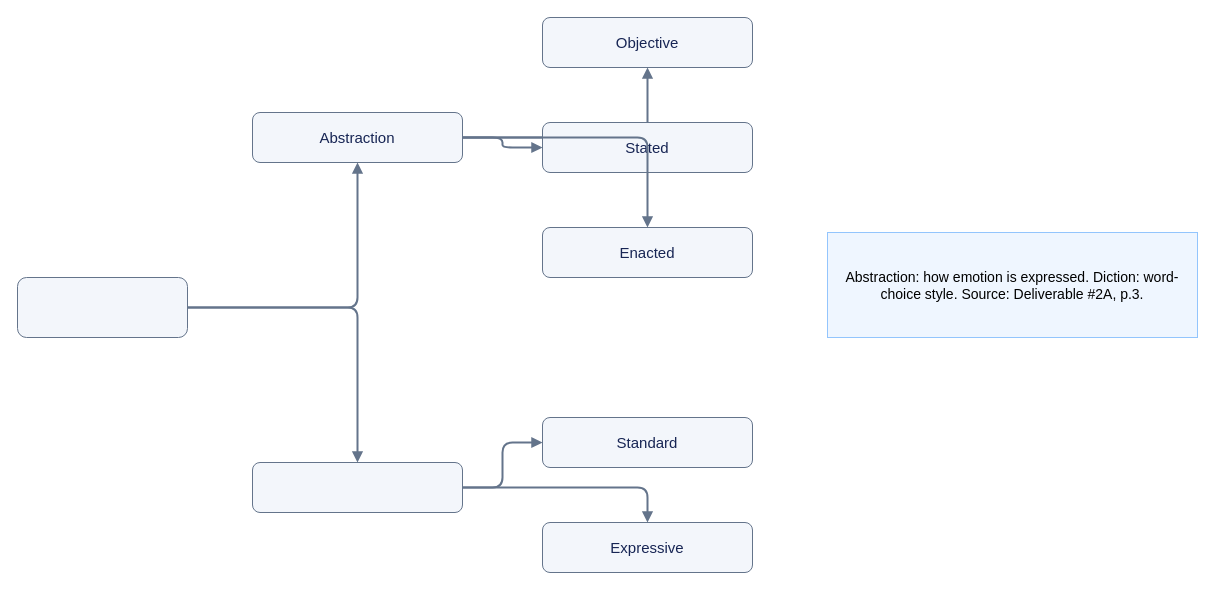
Image size: 1215x590. Some labels were removed from this diagram. Here are the shapes that lost their labels. From the top down, the centre of each, then its label:
(102,307): Input context
(357,487): Diction
